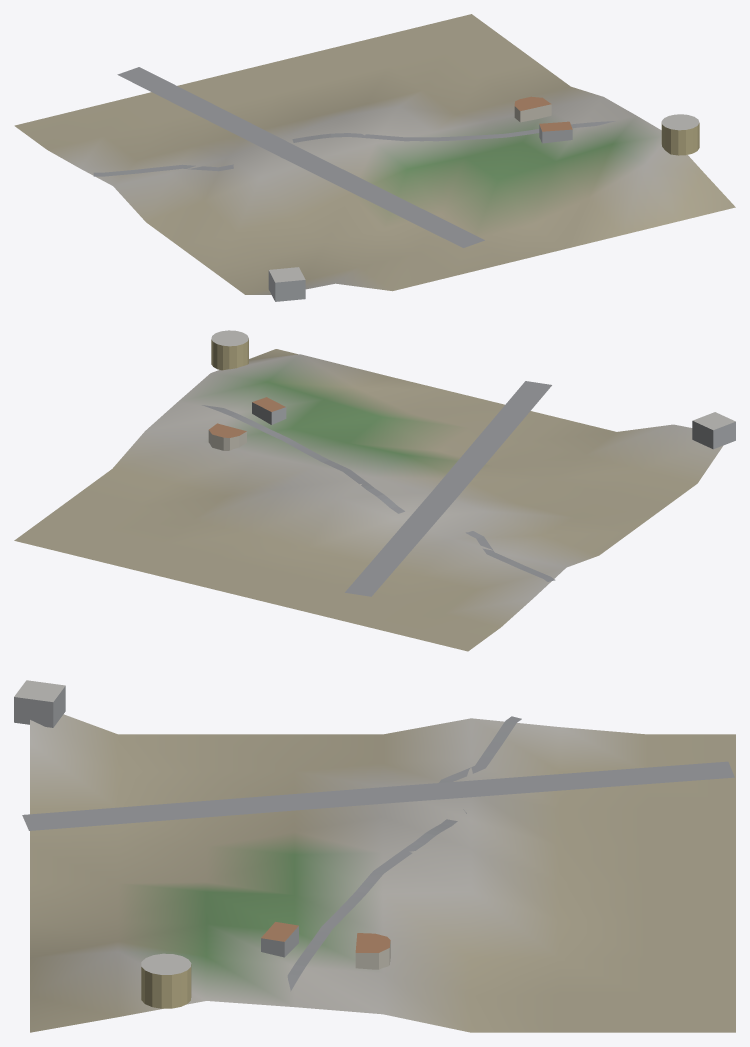
3 views of the same model, one above another, from view 1: azimuth 30°, elevation 25°; view 2: azimuth 150°, elevation 25°; view 3: azimuth 270°, elevation 25° (orthographic). The views are drawn at different scales.
Visible parts, largest first — view 1: Lo; view 2: Lo; view 3: Lo.
Boxes of the visible parts, x1,y1,x2,y2 form: Lo: (14,14,735,301); Lo: (14,330,735,651); Lo: (14,680,735,1032).
Size of the model in its own units: 265 by 26.17 by 262.
